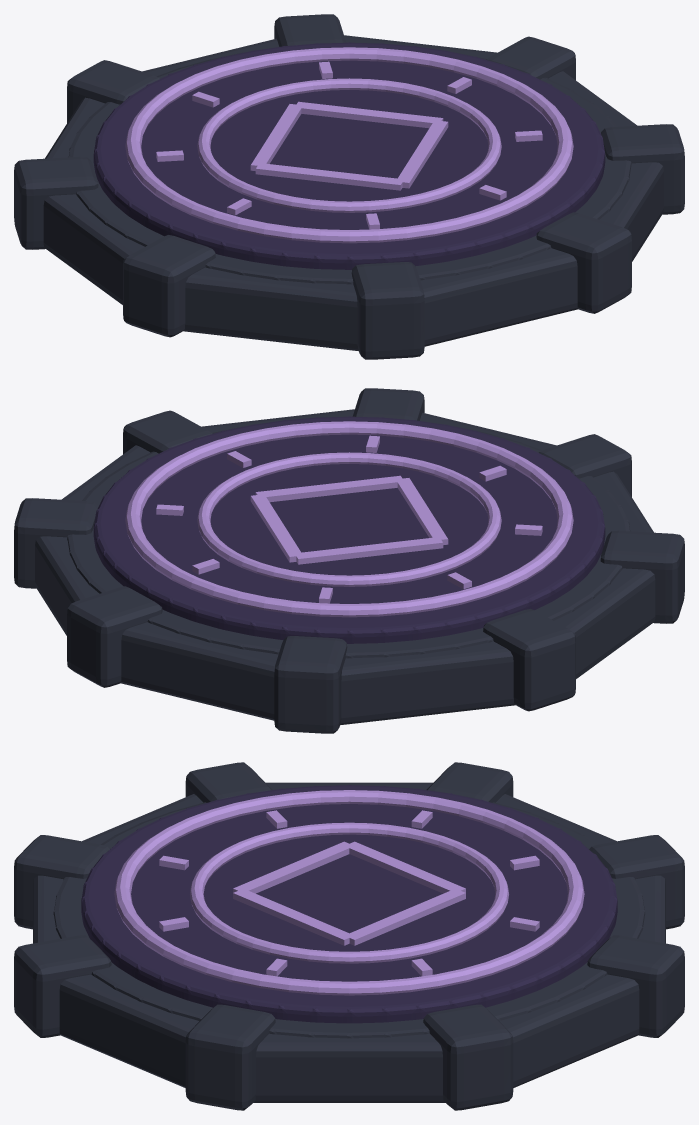
Rendered from VioletPlate.glb.
3 renders of one model, top to bottom at view 1: azimuth 30°, elevation 25°; view 2: azimuth 150°, elevation 25°; view 3: azimuth 270°, elevation 25°, orthographic. The views are drawn at different scales.
Parts seen in each view (by area): view 1: VioletPlate.001; view 2: VioletPlate.001; view 3: VioletPlate.001.
Boxes of the visible parts, left/top/right/bottom form: VioletPlate.001: left=14, top=14, right=684, bottom=359; VioletPlate.001: left=14, top=388, right=684, bottom=733; VioletPlate.001: left=14, top=762, right=684, bottom=1110.
Bounding box in the file's own units: 0.7248 × 0.1016 × 0.7248.
